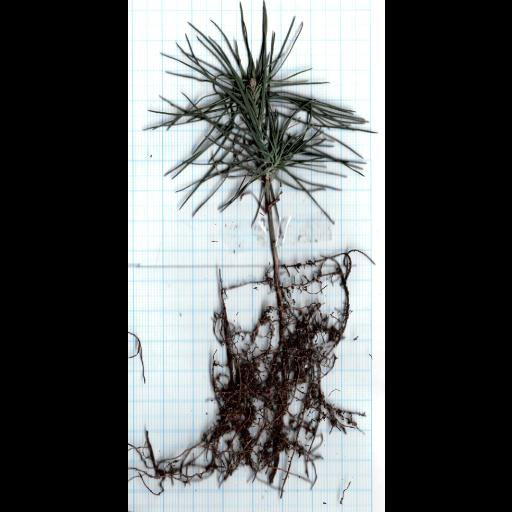flowerCedr: (149, 0, 370, 215)
rootCedr: (133, 251, 362, 495)
stemCedr: (267, 210, 278, 283)
